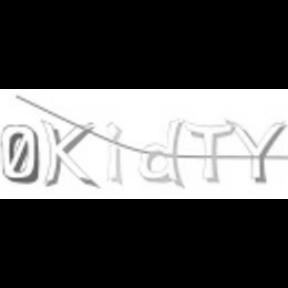0: (1, 122, 40, 186)
K: (39, 116, 99, 190)
T: (183, 122, 237, 186)
Y: (224, 118, 286, 184)
d: (138, 117, 186, 189)
i: (103, 119, 127, 186)
